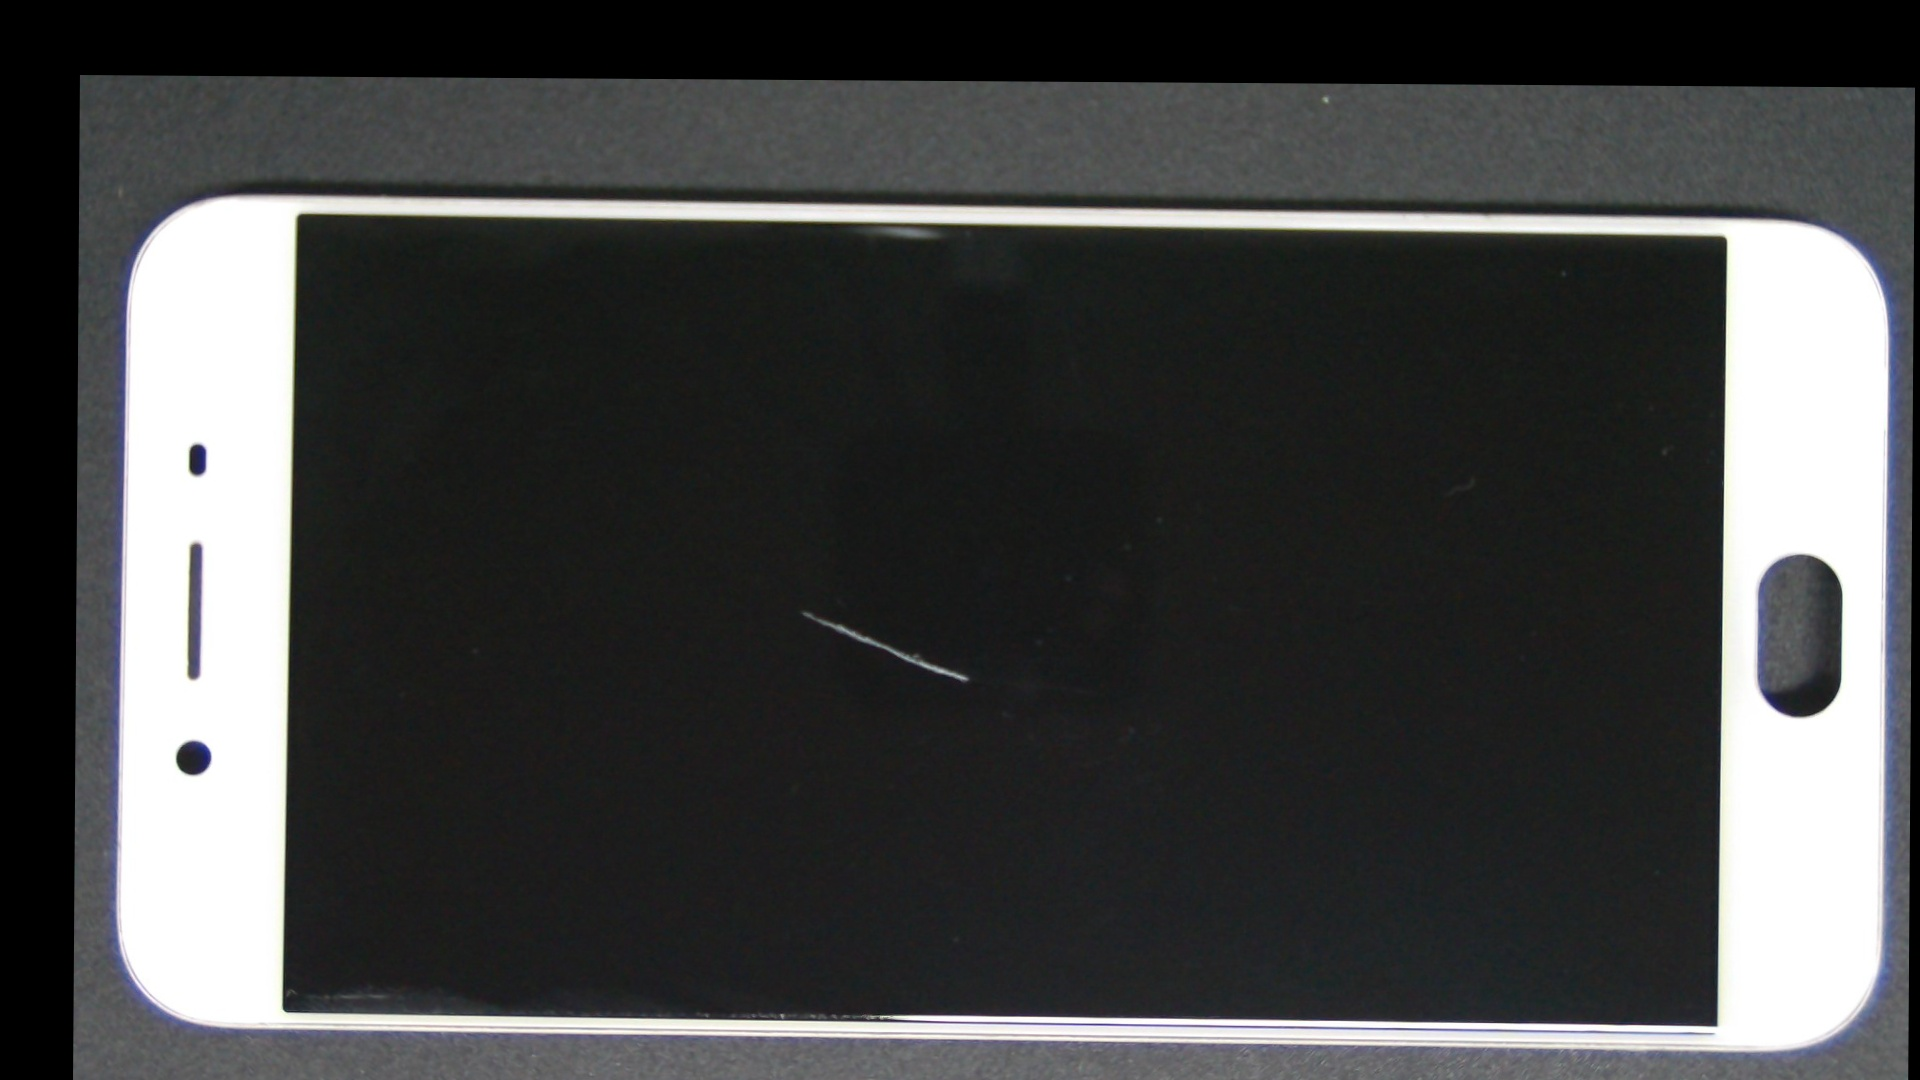oil: (442, 343, 1179, 878)
